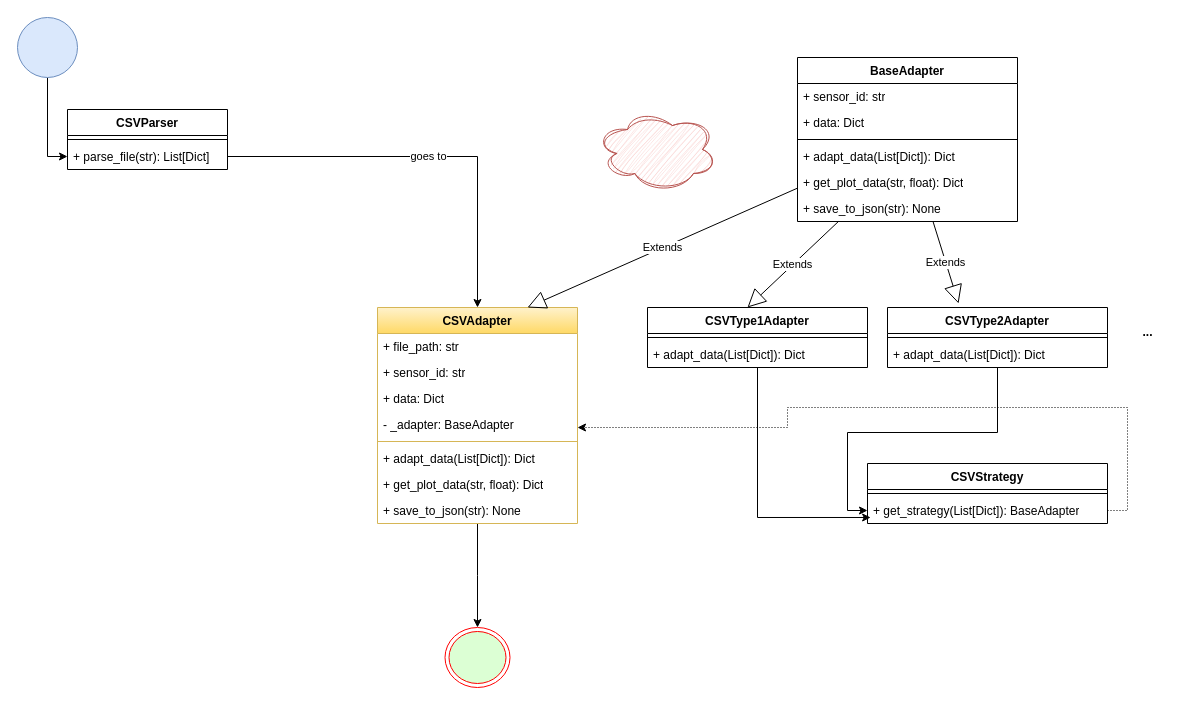
Some shapes in this 1195 by 705 pixel diagram are drawn without their labels. Each missing label, with the box of its shape:
.csv: (16, 16, 78, 78)
json: (444, 626, 510, 688)
under the hood: (596, 108, 718, 190)
